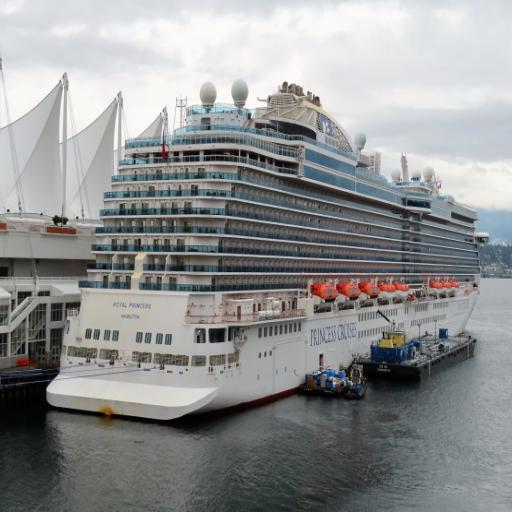cruises: (49, 78, 488, 419)
